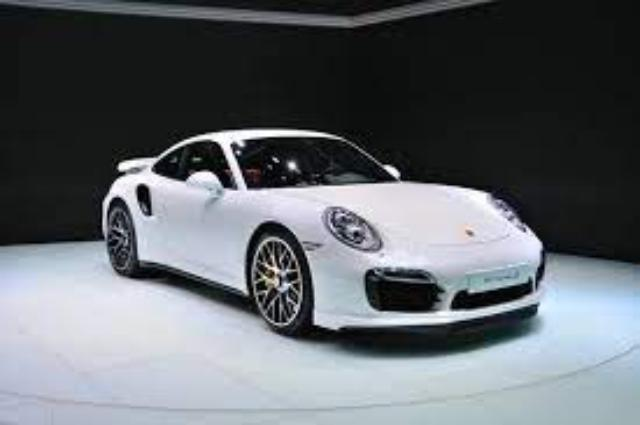porsche: (101, 129, 547, 339)
